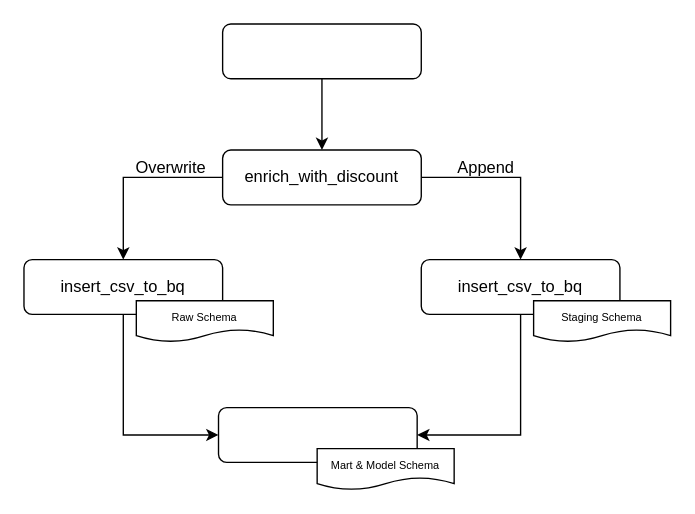
Image size: 695x514. Some labels were removed from this diagram. Here are the shapes that lost their labels. From the top down, the centre of each, then its label:
pixel 321 51: generate_random_data
pixel 317 434: run_model_mart_queries
